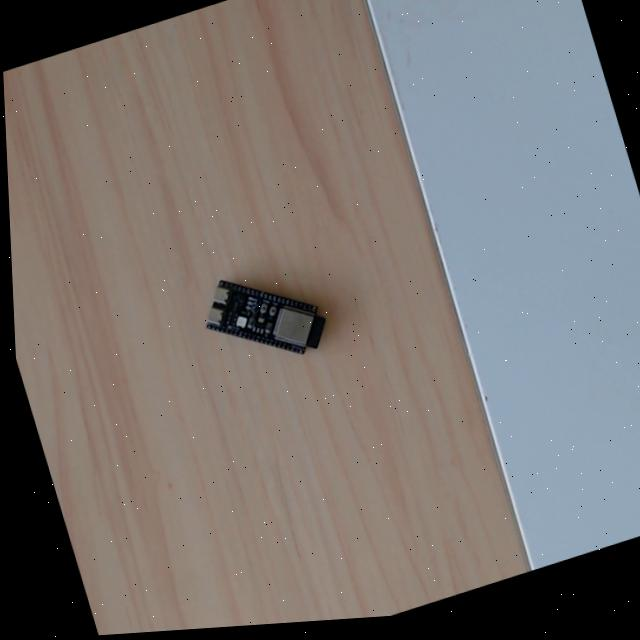ESP32S3-Devkit: (201, 276, 329, 359)
